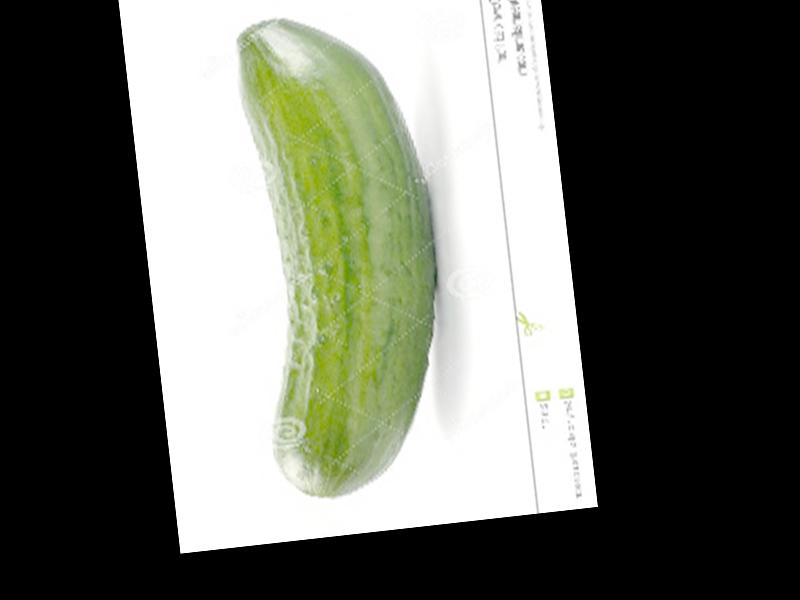Cucumber: (231, 7, 461, 502)
